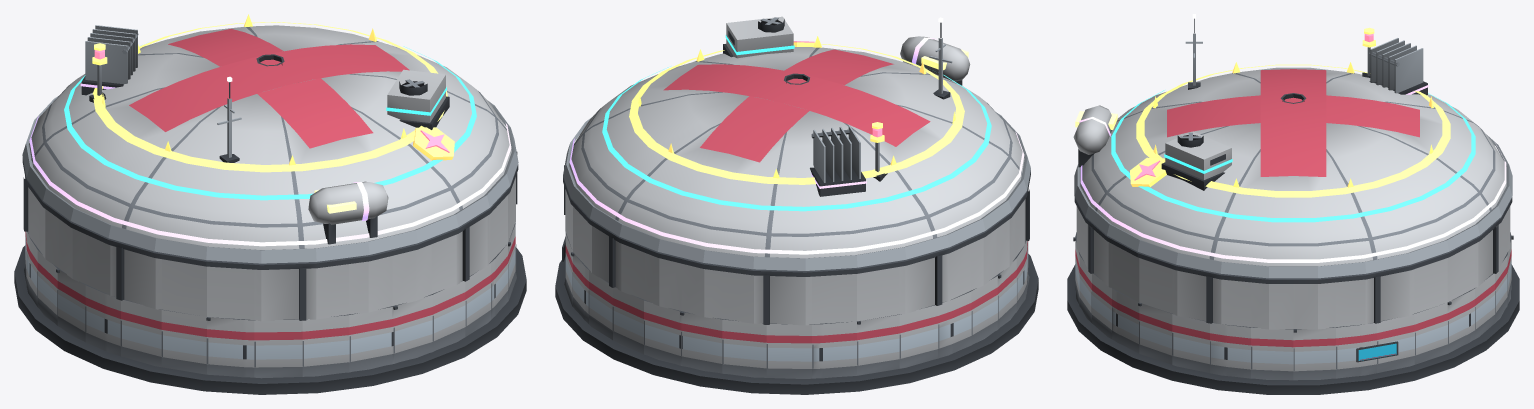
File: medical_s.glb
3 renders of one model, left to right at view 1: azimuth 30°, elevation 25°; view 2: azimuth 150°, elevation 25°; view 3: azimuth 270°, elevation 25°, orthographic. The views are drawn at different scales.
Visible parts, largest first — view 1: Roof, Base, L4, L3, L5, Wall_20, Wall_21, Wall_22, Upper_21, Upper_20, Wall_19, Wall_23 (+33 smaller); view 2: Roof, Base, L4, L3, L5, Wall_10, Wall_11, Wall_09, Upper_10, Upper_11, Wall_12, Upper_09 (+33 smaller); view 3: Roof, Base, L4, L3, L5, Wall_00, Wall_31, Upper_00, Upper_31, Upper_01, Upper_30, Wall_30 (+31 smaller).
Part boxes in pixels (x1,y1,x2,y2): Roof: (22,25,518,265); Base: (14,245,526,394); L4: (29,25,511,246); L3: (64,45,476,200); L5: (89,14,454,172); Wall_20: (206,317,254,377); Wall_21: (254,319,302,378); Wall_22: (302,314,349,376); Upper_21: (254,264,302,321); Upper_20: (206,261,254,319); Wall_19: (161,309,206,374); Wall_23: (349,306,393,372); Roof: (563,47,1030,272); Base: (555,254,1038,394); L4: (569,36,1024,254); L3: (602,16,991,211); L5: (629,36,964,184); Wall_10: (766,323,811,378); Wall_11: (812,321,856,378); Wall_09: (722,319,766,377); Upper_10: (766,271,812,325); Upper_11: (812,269,857,324); Wall_12: (857,314,899,375); Upper_09: (722,267,766,324); Roof: (1074,67,1512,279); Base: (1067,264,1519,394); L4: (1073,38,1506,262); L3: (1111,90,1475,222); L5: (1130,27,1450,197); Wall_00: (1293,327,1335,380); Wall_31: (1251,327,1293,380); Upper_00: (1293,278,1336,329); Upper_31: (1250,278,1293,329); Upper_01: (1335,273,1377,326); Upper_30: (1209,273,1251,326); Wall_30: (1210,322,1250,378).
Size of the model in its own units: 10.53 by 6.24 by 10.53.
